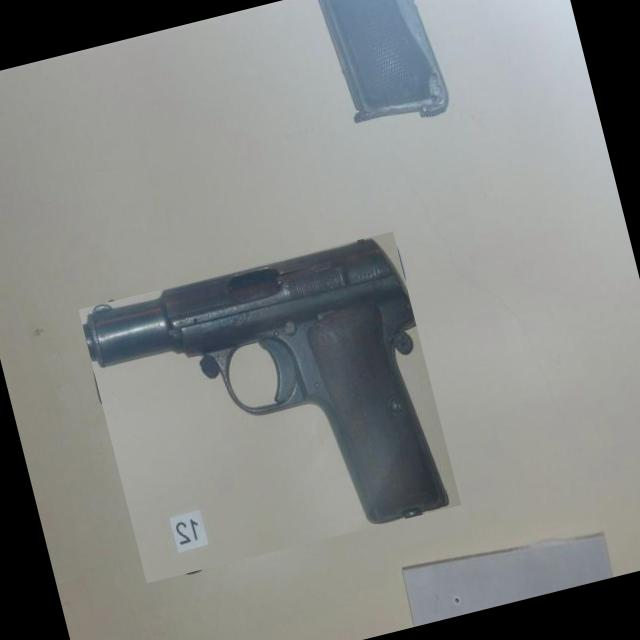Gun: (83, 240, 448, 523)
